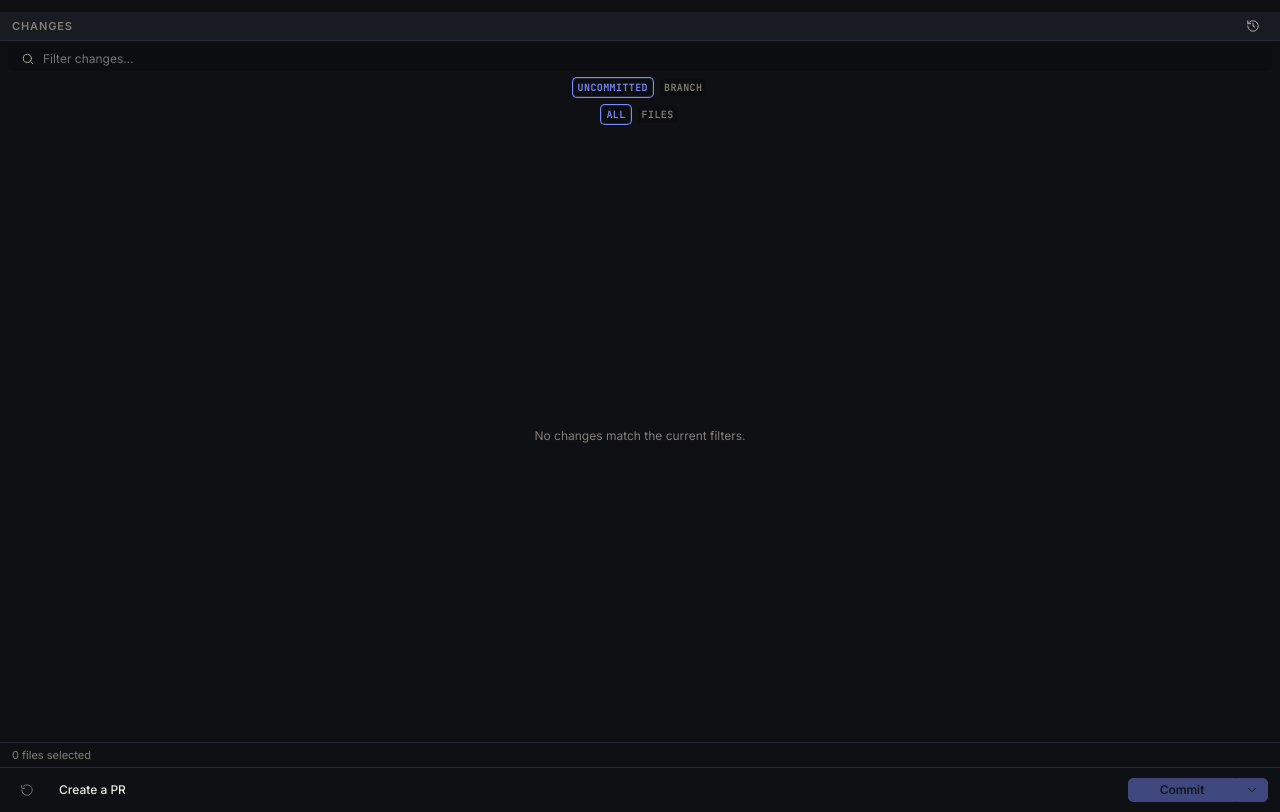
Test case: folder and group counts (CHG-FR-50..FR-53) › keeps stating its count while collapsed (CHG-FR-50, CHG-FR-51, CHG-FR-26)
The image size is (1280, 812).
Click the radio button labelled "Files": (658, 114) [636,104,680,125]
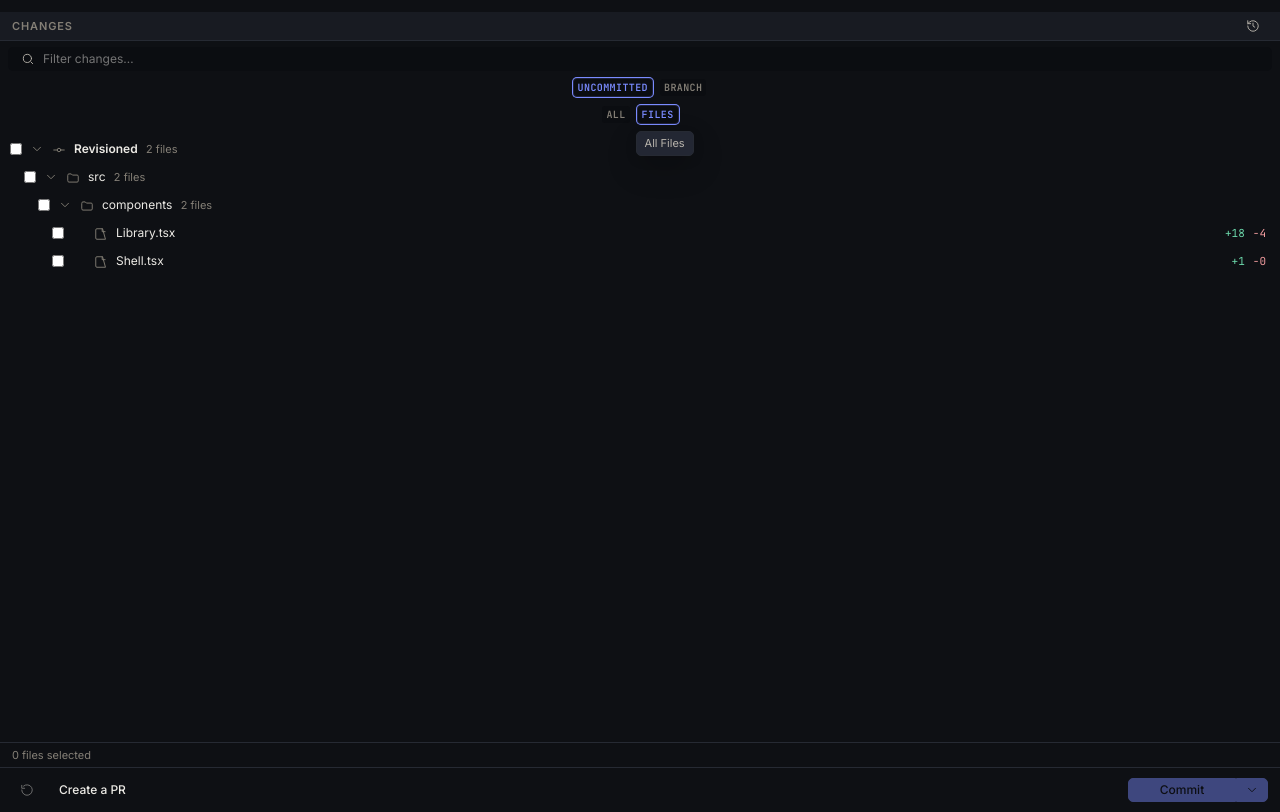
Now the text "Library.tsx" is shown, box [116,225,175,240]
Now the text "2 files" next to "Revisioned" is shown, box [146,141,177,157]
Click the element with class "tree-row" showing "src 2 files": (51, 177) [24,169,145,185]
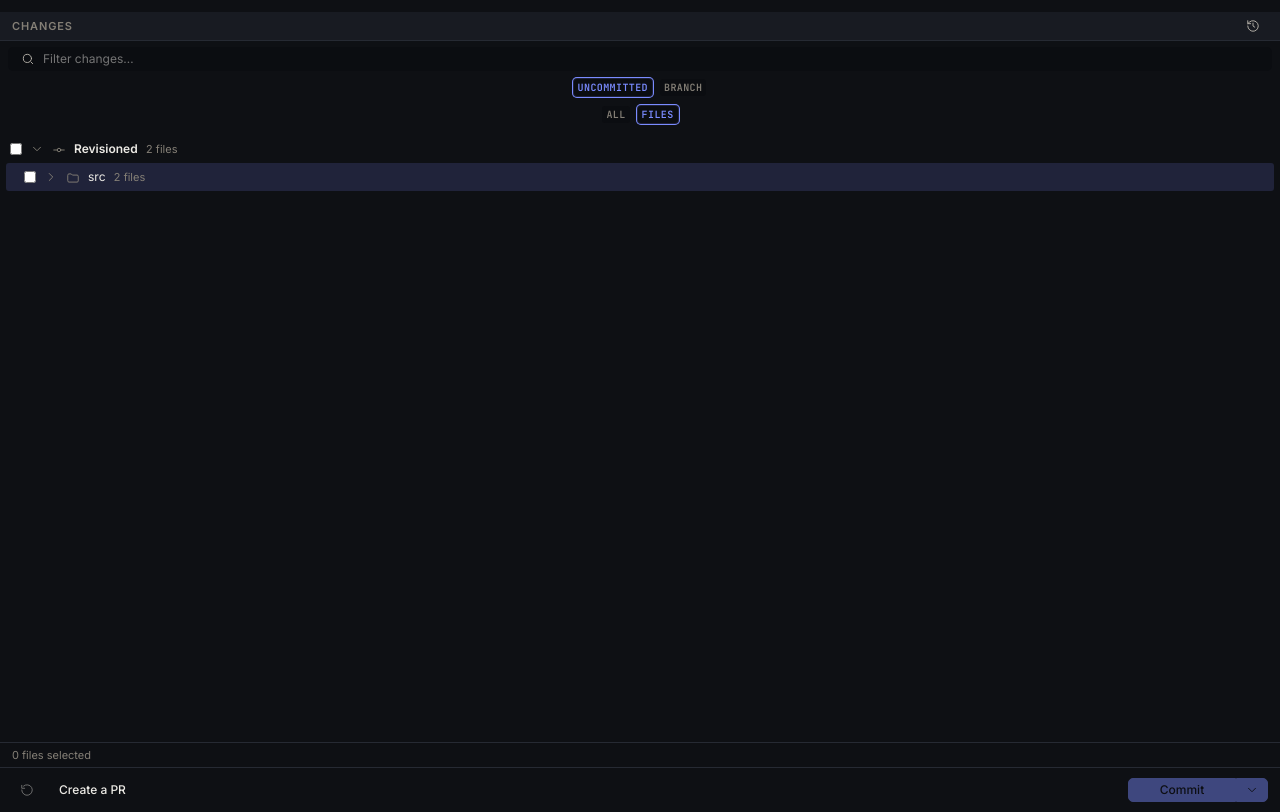
Now the text "2 files" next to "Revisioned" is shown, box [146,141,177,157]
Now the text "Library.tsx" is gone
